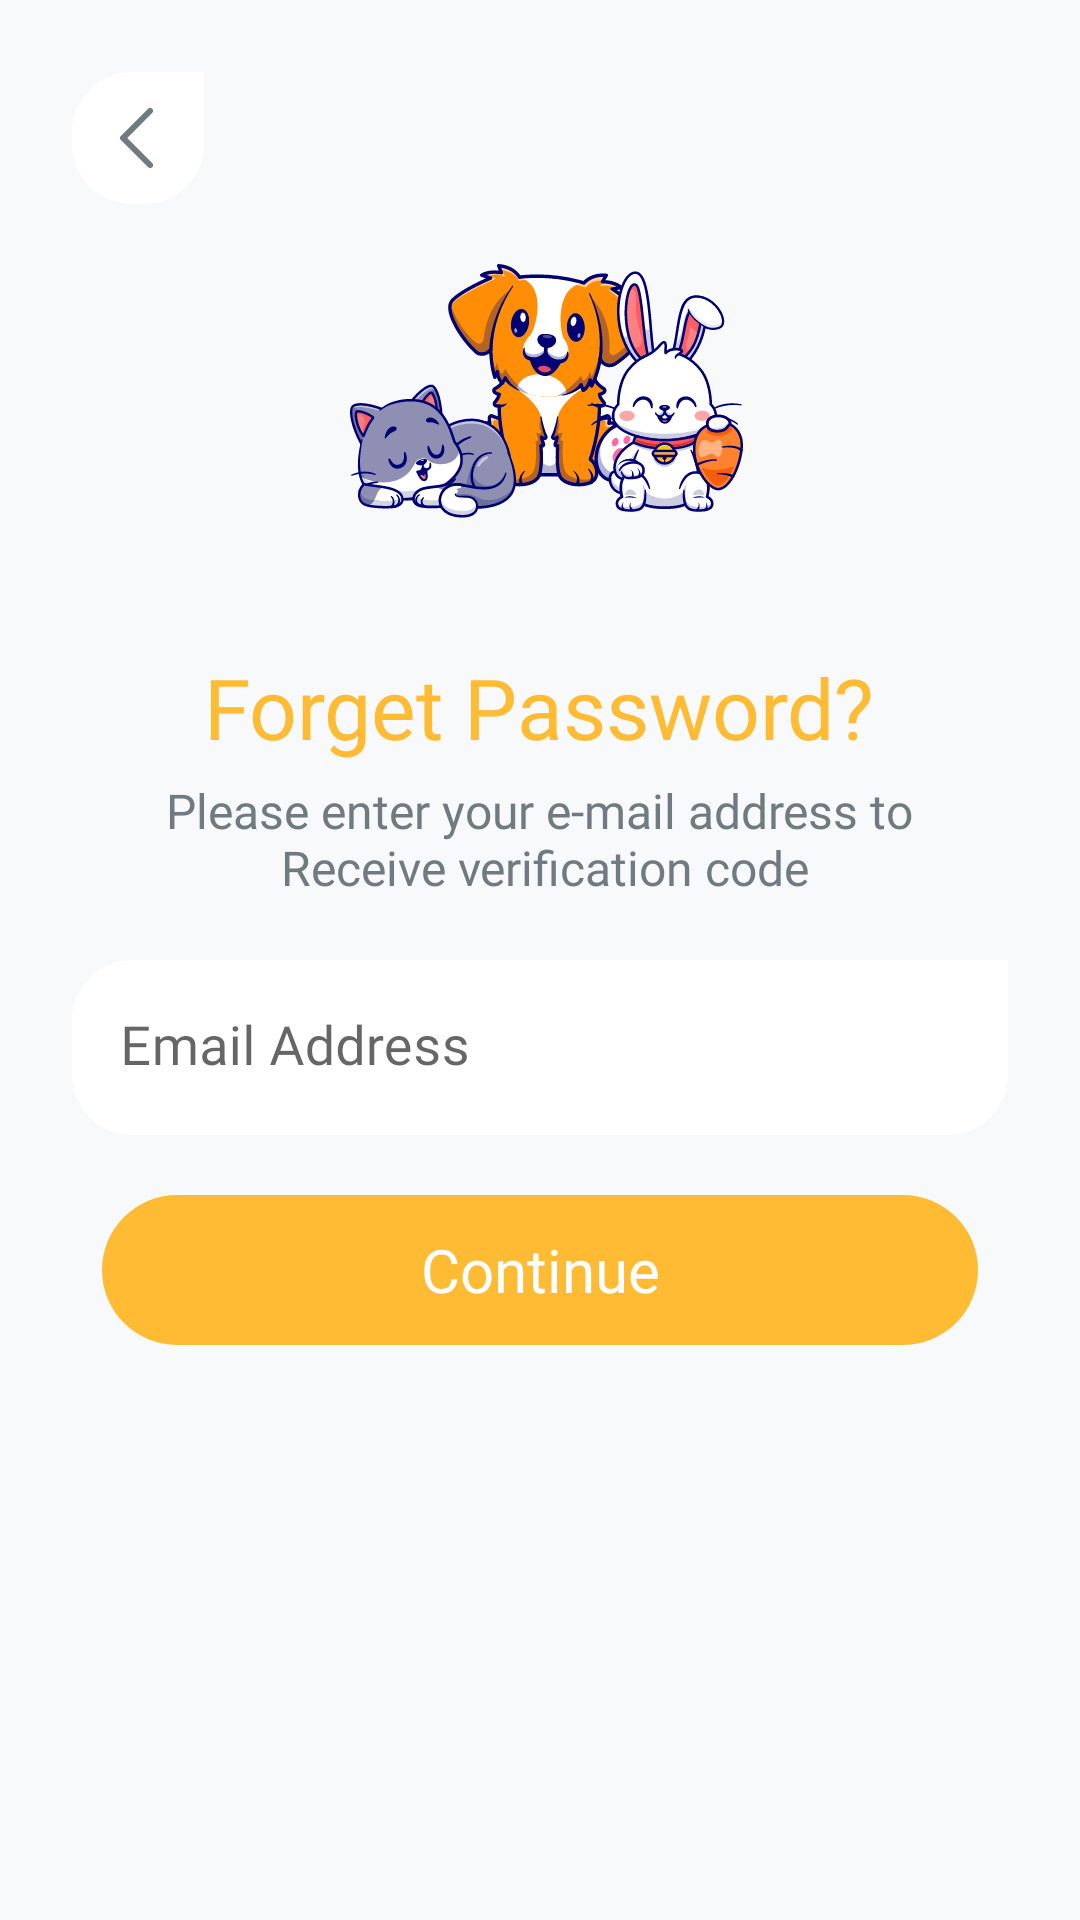

Icons on this 1080px x 1920px Android screen, each with its box as (x1, y1, x2, y2):
chevron left: (120, 108, 153, 168)
